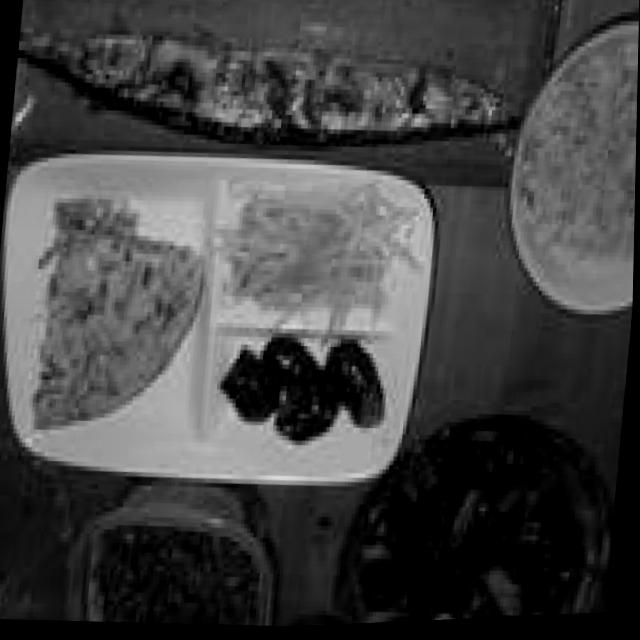熟制海鲜: (5, 0, 545, 210)
